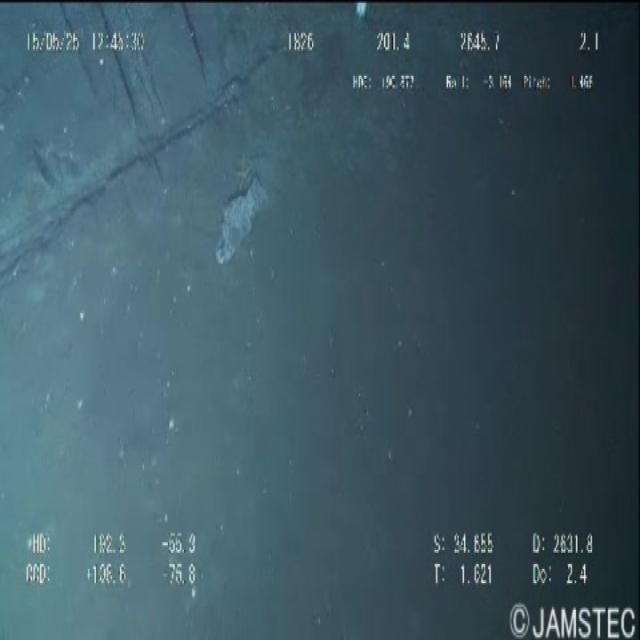Litter: (207, 176, 290, 284)
